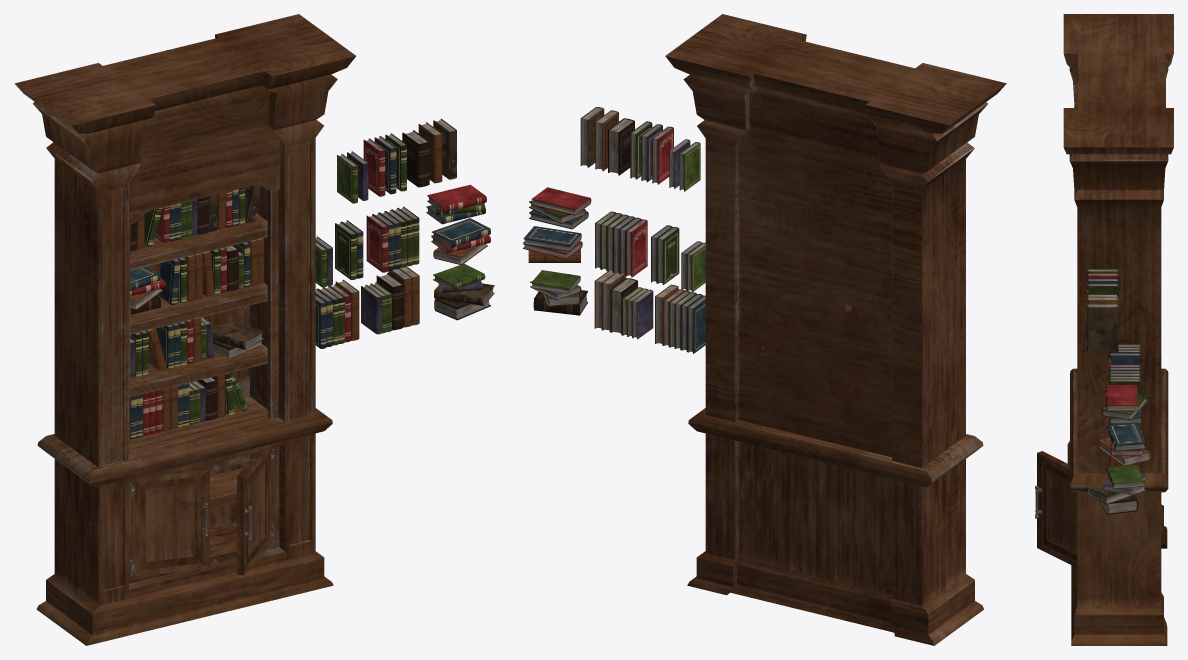
3 views of the same model, side by side, from view 1: azimuth 30°, elevation 25°; view 2: azimuth 150°, elevation 25°; view 3: azimuth 270°, elevation 25° (orthographic). The views are drawn at different scales.
Parts seen in each view (by area): view 1: Cabinet_0302EX, Books_Show02, Books_Show, Object237_Cabinet03_0, Object238_Cabinet03_0, book_0106, book_0103, book_0108, book_0107, book_0108EX, book_0104; view 2: Cabinet_0302EX, Books_Show, book_0106, book_0103, book_0108, book_0108EX, book_0107, book_0105, book_0104; view 3: Cabinet_0302EX, Books_Show, Object238_Cabinet03_0, book_0108, book_0105, book_0107.
Part boxes in pixels (x1,y1,x2,y2): Cabinet_0302EX: (14,14,355,645); Books_Show02: (130,185,264,438); Books_Show: (315,184,494,348); Object237_Cabinet03_0: (129,466,209,577); Object238_Cabinet03_0: (237,448,274,575); book_0106: (402,130,429,187); book_0103: (363,138,385,196); book_0108: (433,118,456,179); book_0107: (418,122,442,183); book_0108EX: (337,154,357,203); book_0104: (374,136,396,194); Cabinet_0302EX: (665,14,1006,645); Books_Show: (523,187,705,353); book_0106: (608,118,634,175); book_0103: (652,126,673,184); book_0108: (580,107,604,167); book_0108EX: (679,142,700,191); book_0107: (595,110,618,171); book_0105: (630,121,652,179); book_0104: (641,124,662,182); Cabinet_0302EX: (1063,14,1173,645); Books_Show: (1087,344,1150,514); Object238_Cabinet03_0: (1035,451,1077,567); book_0108: (1087,303,1118,353); book_0105: (1087,283,1118,294); book_0107: (1087,297,1118,304).
Bounding box in the file's own units: 944 × 1065 × 264.
2 materials, 2 textured.
